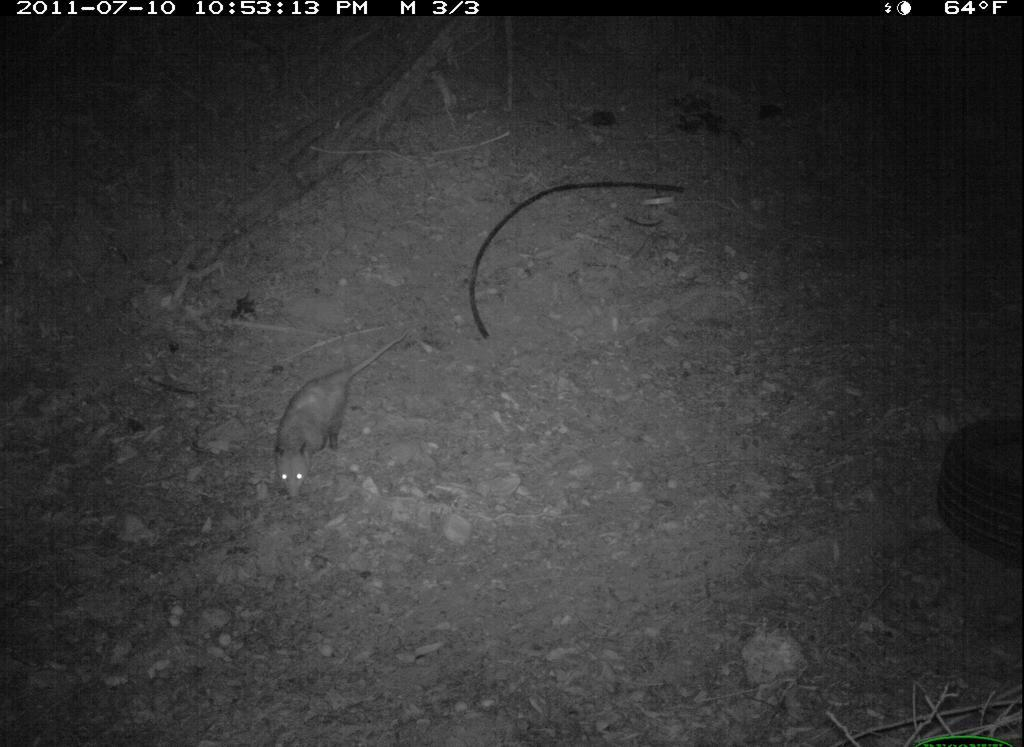opossum: (267, 328, 422, 505)
